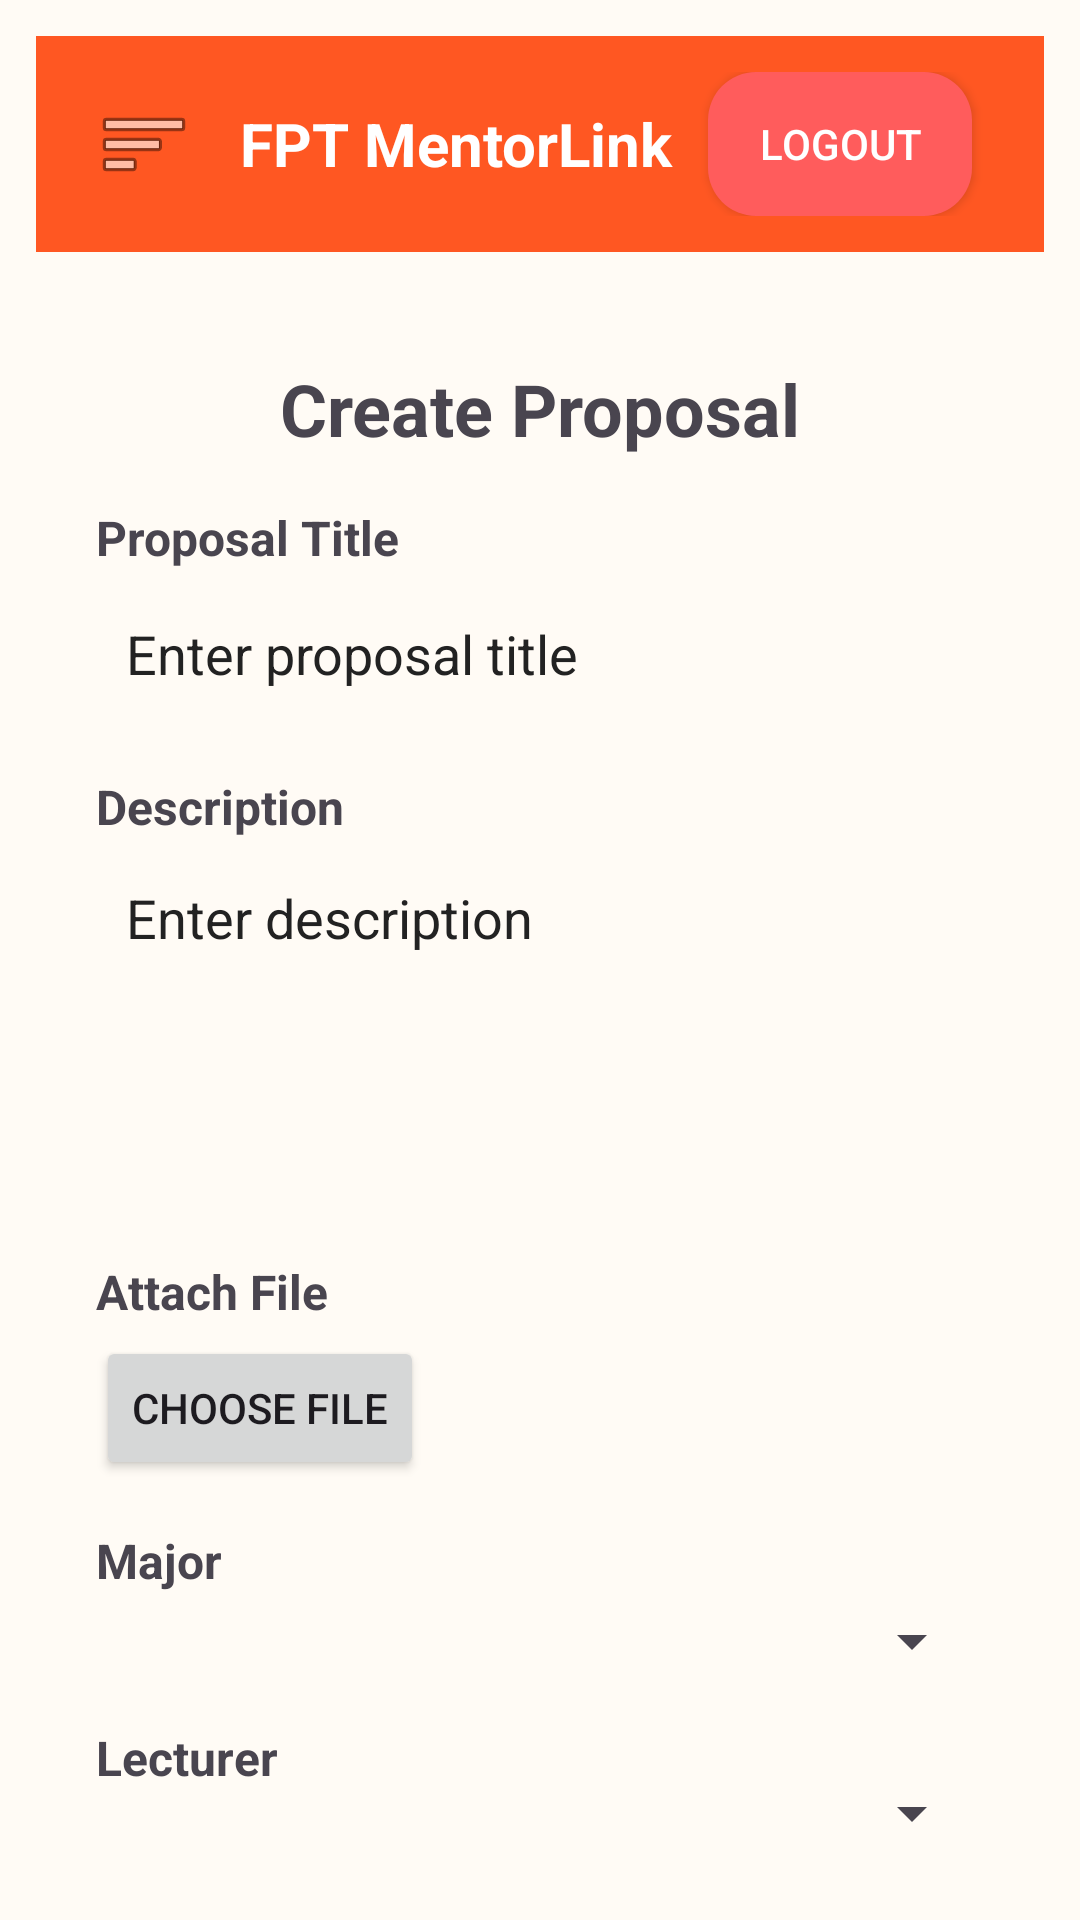

Where to tap for icons on this 1080*1920 app screen, as (x,y):
Menu: (144,144)
